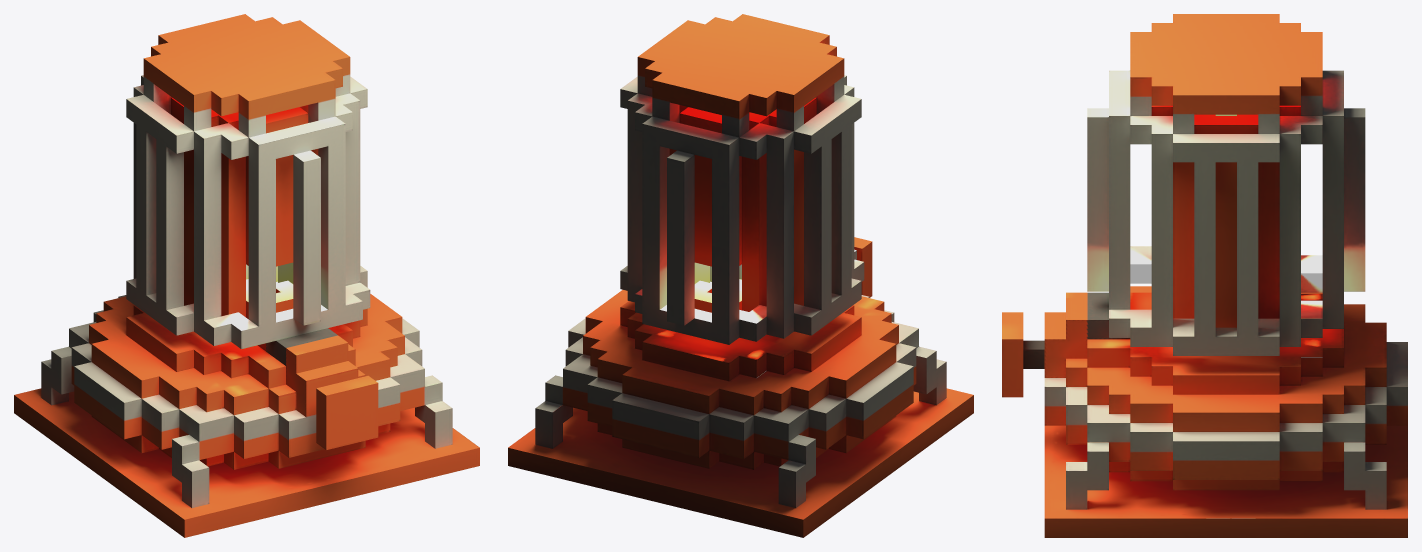
File: alagin.glb
3 views of the same model, side by side, from view 1: azimuth 30°, elevation 25°; view 2: azimuth 150°, elevation 25°; view 3: azimuth 270°, elevation 25° (orthographic). The views are drawn at different scales.
Visible parts, largest first — view 1: alagin.005; view 2: alagin.005; view 3: alagin.005.
Boxes of the visible parts, bbox=[...] form: alagin.005: bbox=[14, 14, 479, 537]; alagin.005: bbox=[508, 14, 973, 537]; alagin.005: bbox=[1002, 14, 1407, 537].
Size of the model in its own units: 3.78 by 4.67 by 4.22.
Materials: 1 (1 with a texture image).
